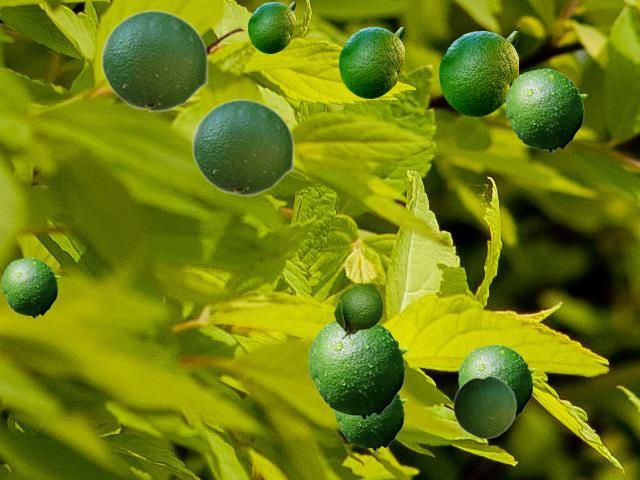dalandan: (100, 9, 208, 112), (191, 98, 294, 196), (308, 321, 408, 419), (505, 68, 586, 152), (439, 31, 517, 115), (458, 344, 535, 418), (339, 27, 403, 97), (452, 374, 516, 439), (334, 393, 406, 450), (1, 257, 59, 317), (333, 283, 382, 338), (248, 2, 294, 52)
